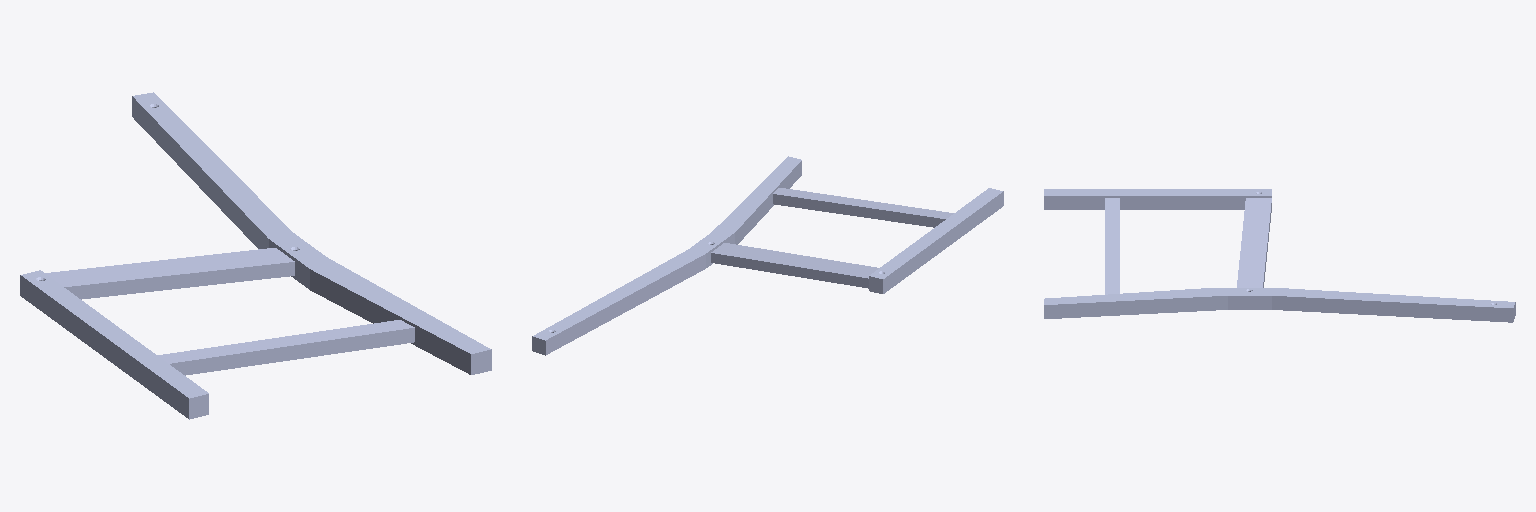
The robot description file, URDF, robot "chair part6.SLDPRT":
<?xml version="1.0" encoding="utf-8"?>
<!-- This URDF was automatically created by SolidWorks to URDF Exporter! Originally created by [author] ([email redacted]) 
     Commit Version: 1.5.1-0-g916b5db  Build Version: 1.5.7152.31018
     For more information, please see http://wiki.ros.org/sw_urdf_exporter -->
<robot
  name="chair part6.SLDPRT">
  <link
    name="chair part6.SLDPRT">
    <inertial>
      <origin
        xyz="0.25265 0.35064 -0.022466"
        rpy="1.5707963267949 0 0" />
      <mass
        value="1.8822" />
      <inertia
        ixx="0.092184"
        ixy="-0.0046305"
        ixz="-0.028222"
        iyy="0.14409"
        iyz="0.00238449999999999"
        izz="0.052969" />
    </inertial>
    <visual>
      <origin
        xyz="0 0 0"
        rpy="0 0 0" />
      <geometry>
        <mesh
          filename="package://object_description/chair_meshes/chair part6.SLDPRT.STL" />
      </geometry>
      <material
        name="">
        <color
          rgba="0.79216 0.81961 0.93333 1" />
        <texture
          filename="package://object_description/textures/" />
      </material>
    </visual>
    <collision>
      <origin
        xyz="0 0 0"
        rpy="0 0 0" />
      <geometry>
        <mesh
          filename="package://object_description/chair_meshes/chair part6.SLDPRT.STL" />
      </geometry>
      <surface>
      <contact>
          <ode>
            <kp>1.0E+15</kp>
            <kd>1.0E+13</kd>
          </ode>
        </contact>
      </surface>
    </collision>
  </link>
  <gazebo reference="chair part6.SLDPRT">
    <material>Gazebo/White</material>
    <kp>100000.0</kp>
    <kd>1.0</kd>
    <mu1>100000</mu1>
    <mu2>100000</mu2>
    <maxVel>0</maxVel>
    <minDepth>0.00</minDepth>
  </gazebo>
</robot>

--- What the picture shows (computed from the rendered views, not written in the file) ---
The picture shows the robot from 3 angles, left to right: view 1: azimuth 30°, elevation 25°; view 2: azimuth 150°, elevation 25°; view 3: azimuth 270°, elevation 25°; orthographic projection.
Robot: chair part6.SLDPRT — 1 links, 0 joints (none); root link chair part6.SLDPRT; default pose: every joint at zero.
Links seen in each view (by area): view 1: chair part6.SLDPRT; view 2: chair part6.SLDPRT; view 3: chair part6.SLDPRT.
Link boxes in pixels (box(x1,y1,x2,y2)): chair part6.SLDPRT: box(20, 92, 491, 419); chair part6.SLDPRT: box(532, 156, 1003, 355); chair part6.SLDPRT: box(1044, 189, 1515, 322).
Size in the robot's own frame: 0.4647 by 0.9006 by 0.065 metres.
1 mesh visuals loaded from 1 distinct referenced files (1 binary STL).